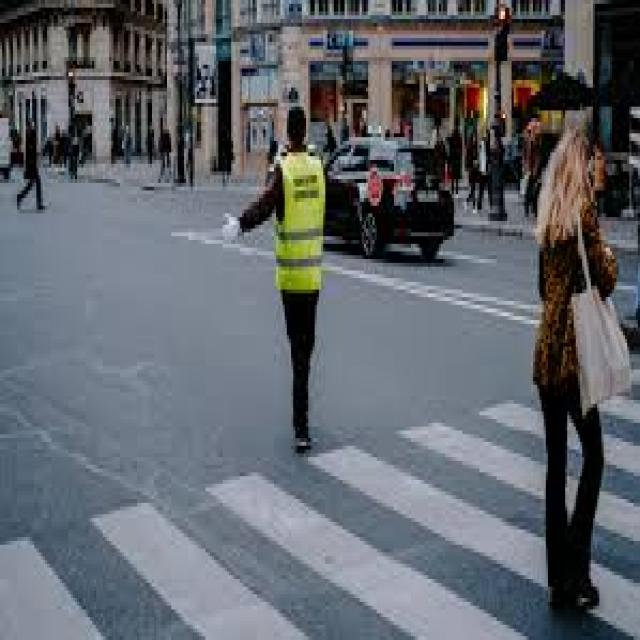Passenger Car: (332, 114, 458, 267)
Pedestrians: (526, 114, 618, 614), (229, 99, 328, 453), (17, 118, 49, 213)
